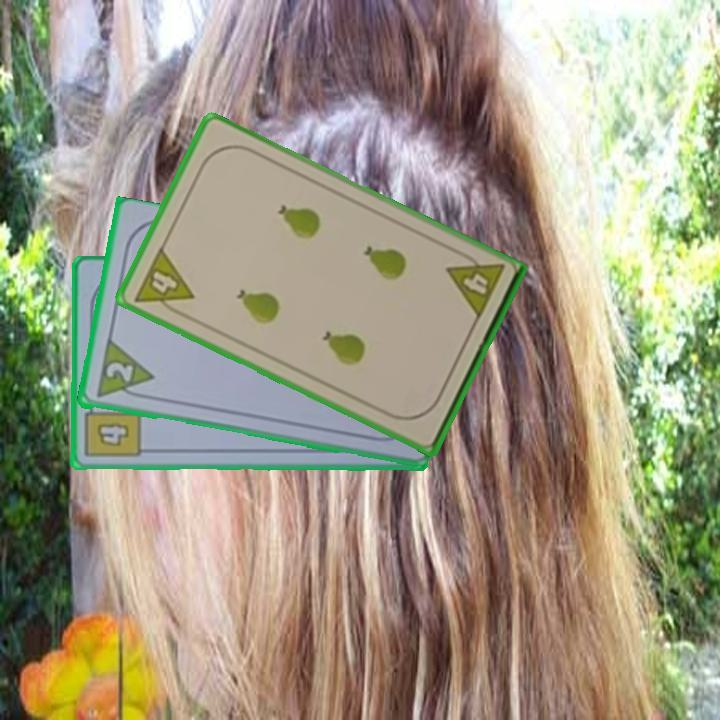2p: (102, 358, 136, 385)
4b: (82, 397, 143, 461)
4p: (130, 244, 197, 321), (443, 246, 507, 323)
